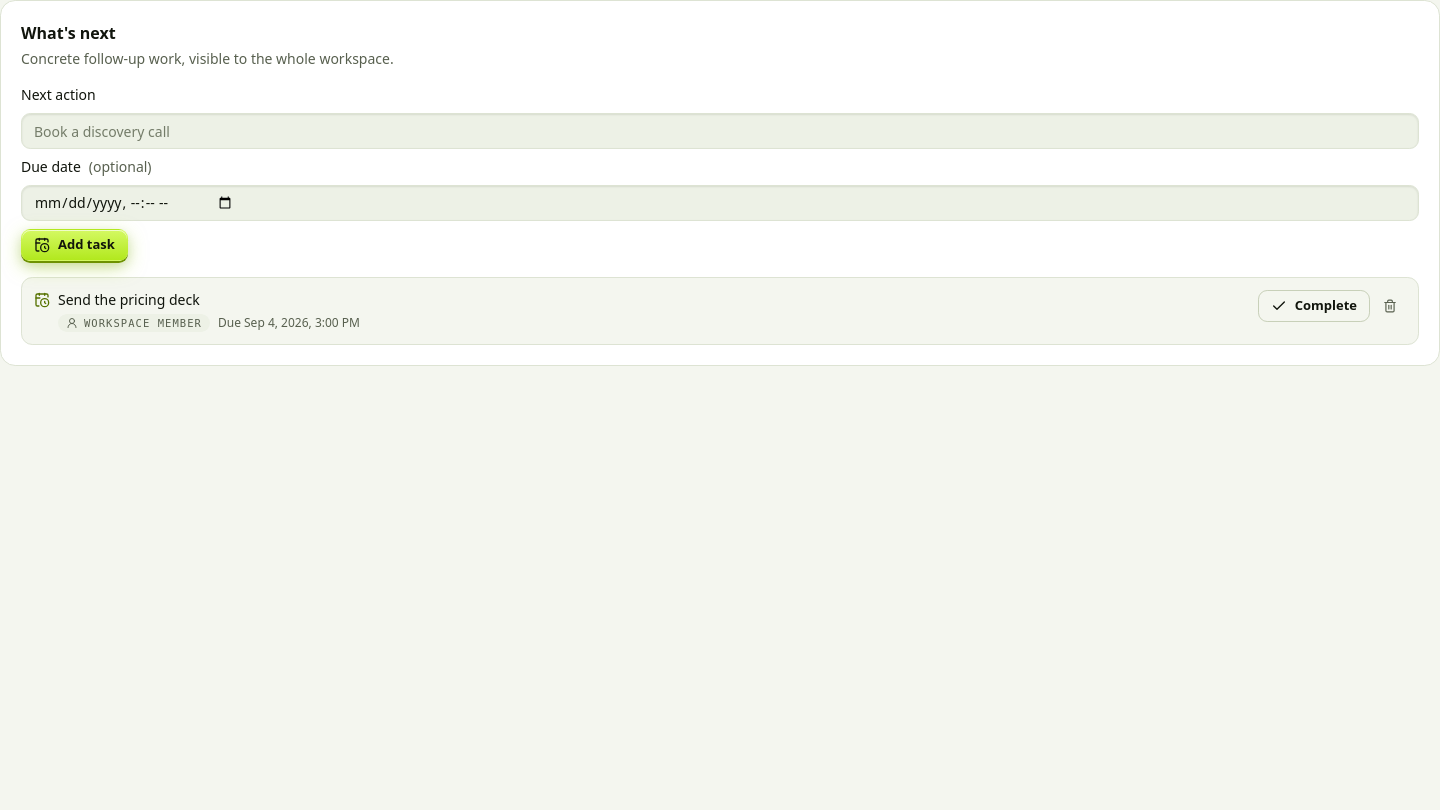
a deletion the server refuses leaves the task listed, and says why in the open
Click the button named "delete send the pricing deck": (1390,306) [1374,290,1406,322]
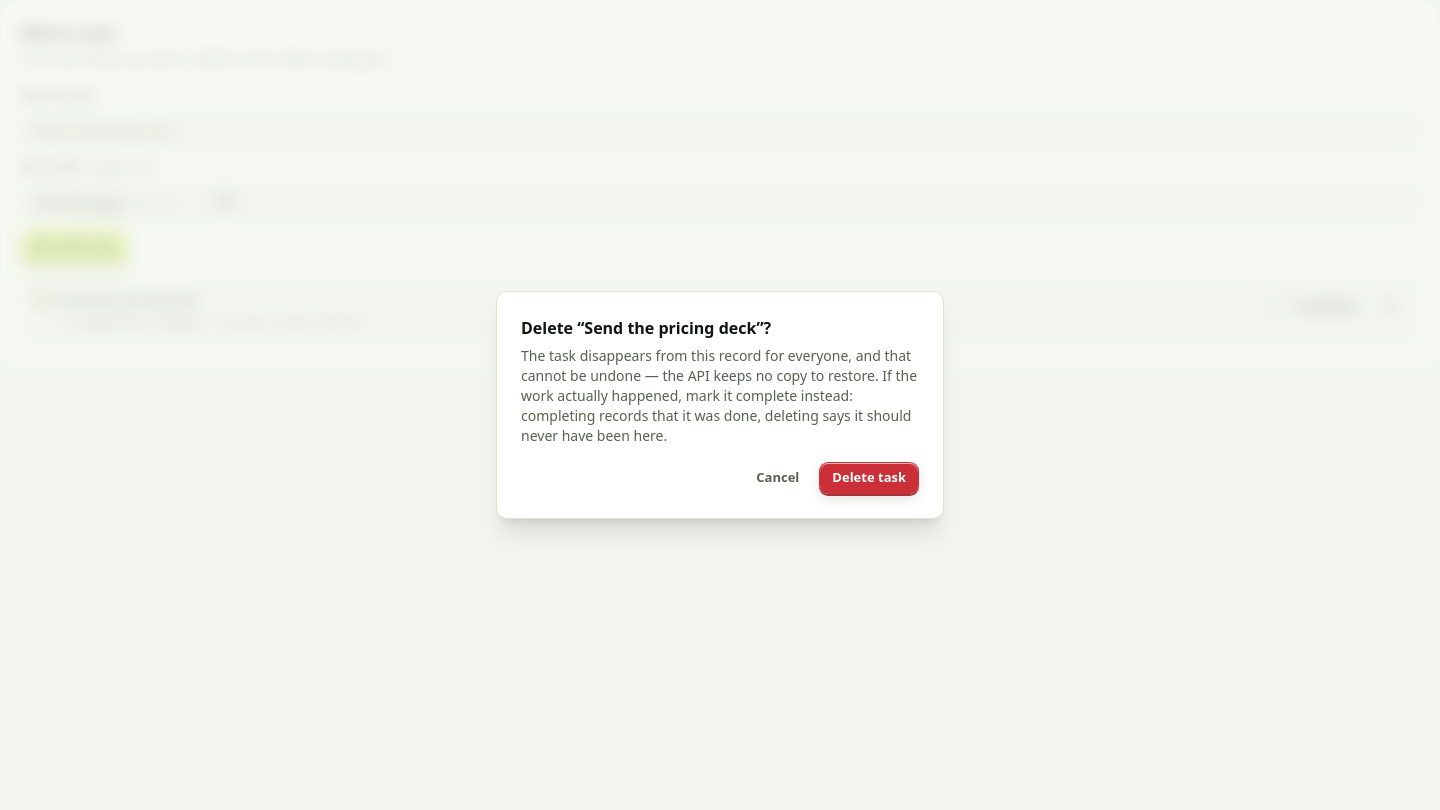
Click the button "Delete task": (869,478) [819,462,919,494]
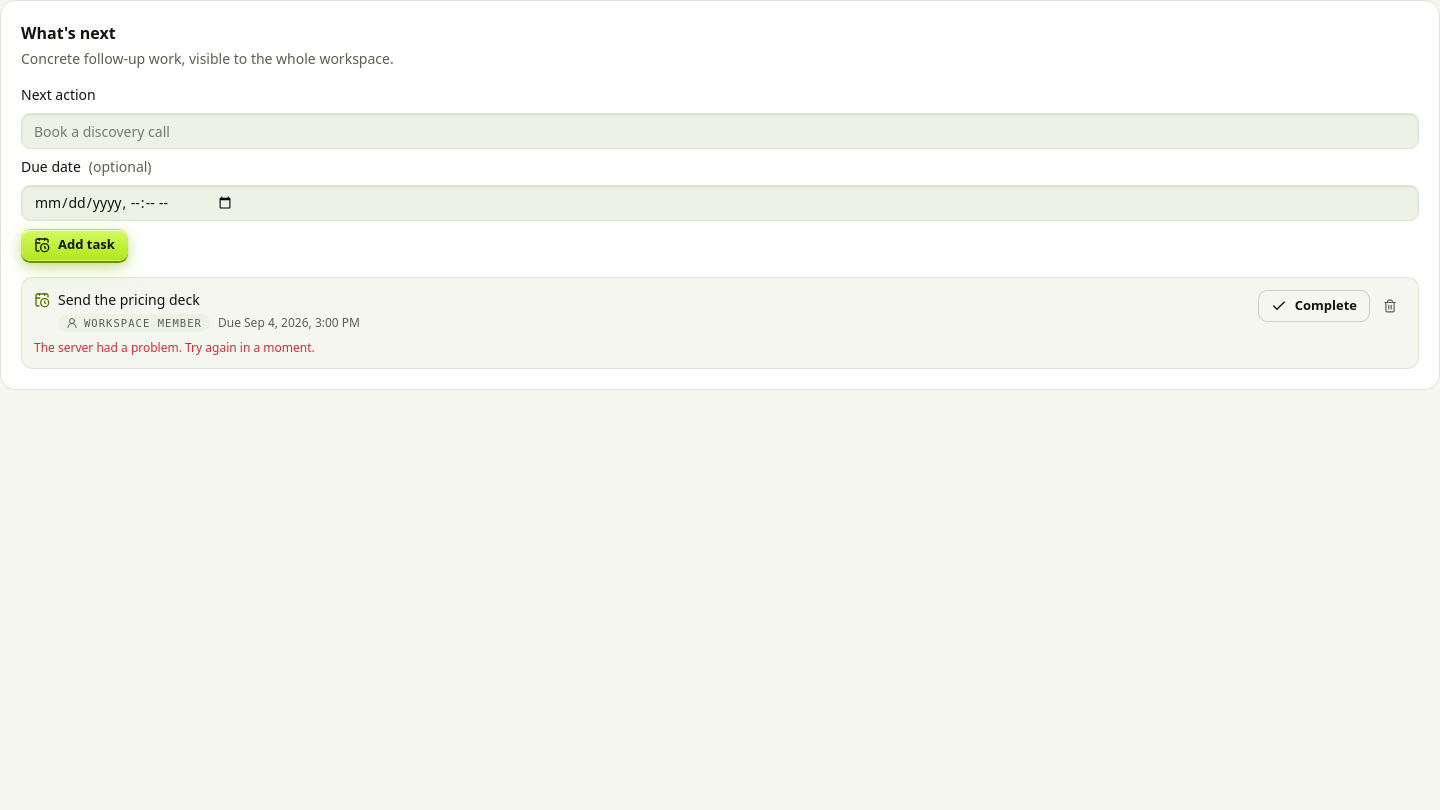
Check: the message reads "The server had a problem. Try again in a moment.", box [34,339,315,356]
Check: the dialog is gone
